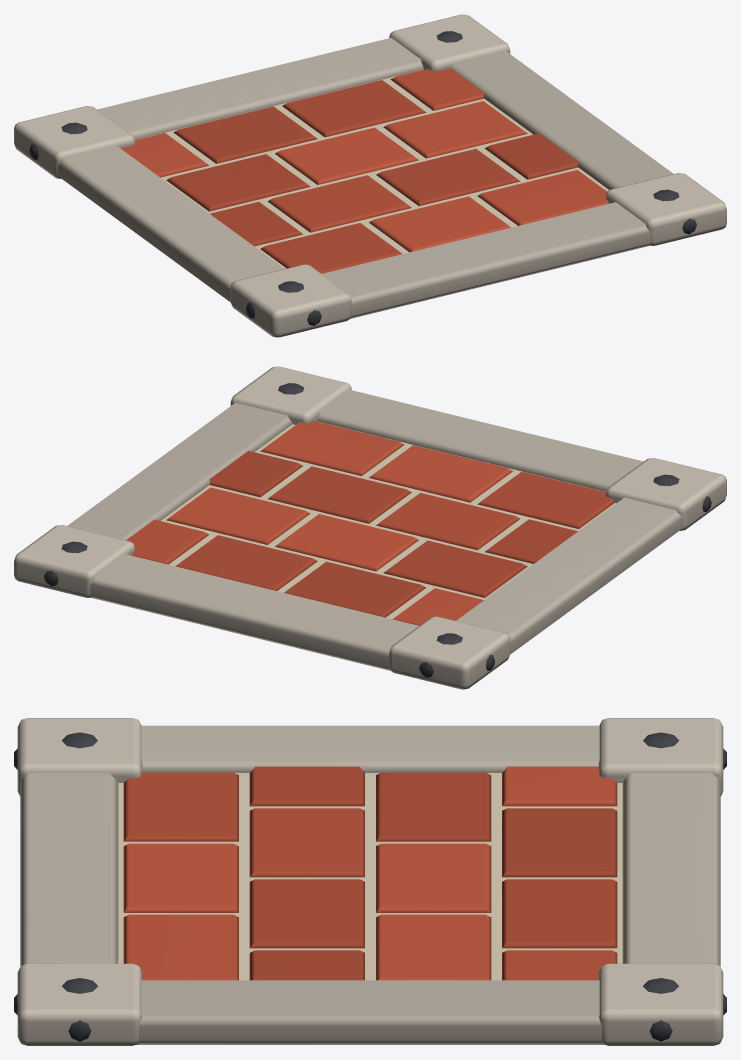
The model's file is floor_brick.glb.
3 views of the same model, one above another, from view 1: azimuth 30°, elevation 25°; view 2: azimuth 150°, elevation 25°; view 3: azimuth 270°, elevation 25° (orthographic). The views are drawn at different scales.
Parts seen in each view (by area): view 1: floor_brick; view 2: floor_brick; view 3: floor_brick.
Boxes of the visible parts, x1,y1,x2,y2 form: floor_brick: [14, 14, 726, 337]; floor_brick: [14, 366, 726, 689]; floor_brick: [14, 718, 726, 1045].
Bounding box in the file's own units: 4 × 0.25 × 4.
